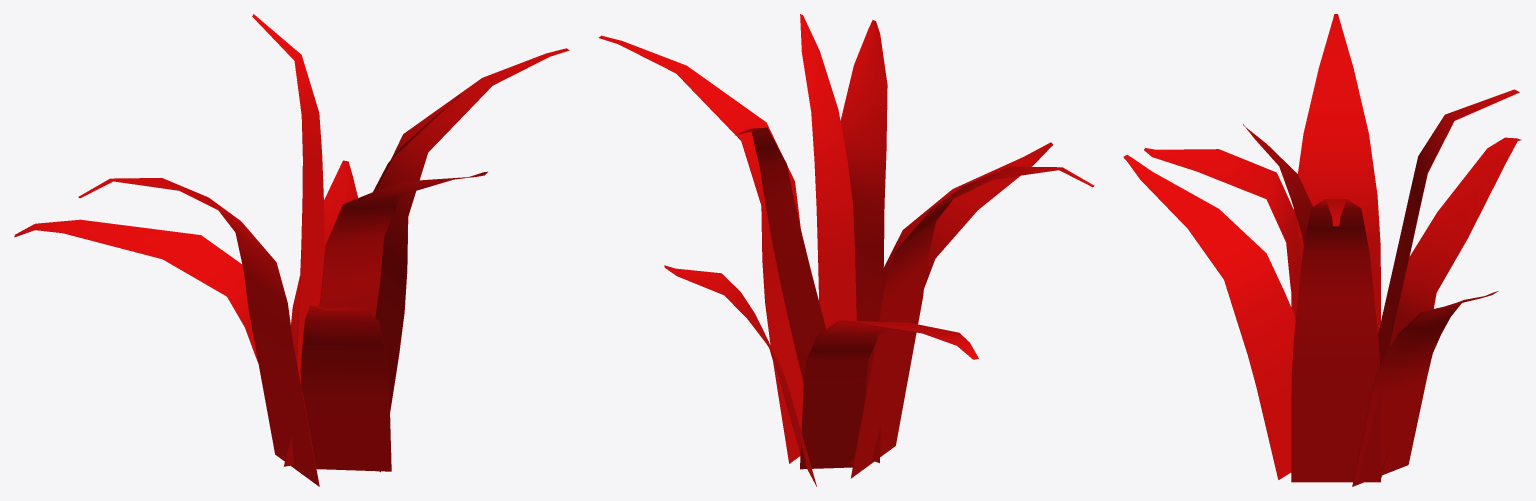
File: grass_2.fbx
3 renders of one model, left to right at view 1: azimuth 30°, elevation 25°; view 2: azimuth 150°, elevation 25°; view 3: azimuth 270°, elevation 25°, orthographic.
Visible parts, largest first — view 1: grass; view 2: grass; view 3: grass.
Part boxes in pixels (box(x1,y1,x2,y2)): grass: box(14, 14, 569, 486); grass: box(598, 14, 1094, 486); grass: box(1123, 14, 1521, 486).
Size of the model in its own units: 112 by 84.17 by 78.21.
